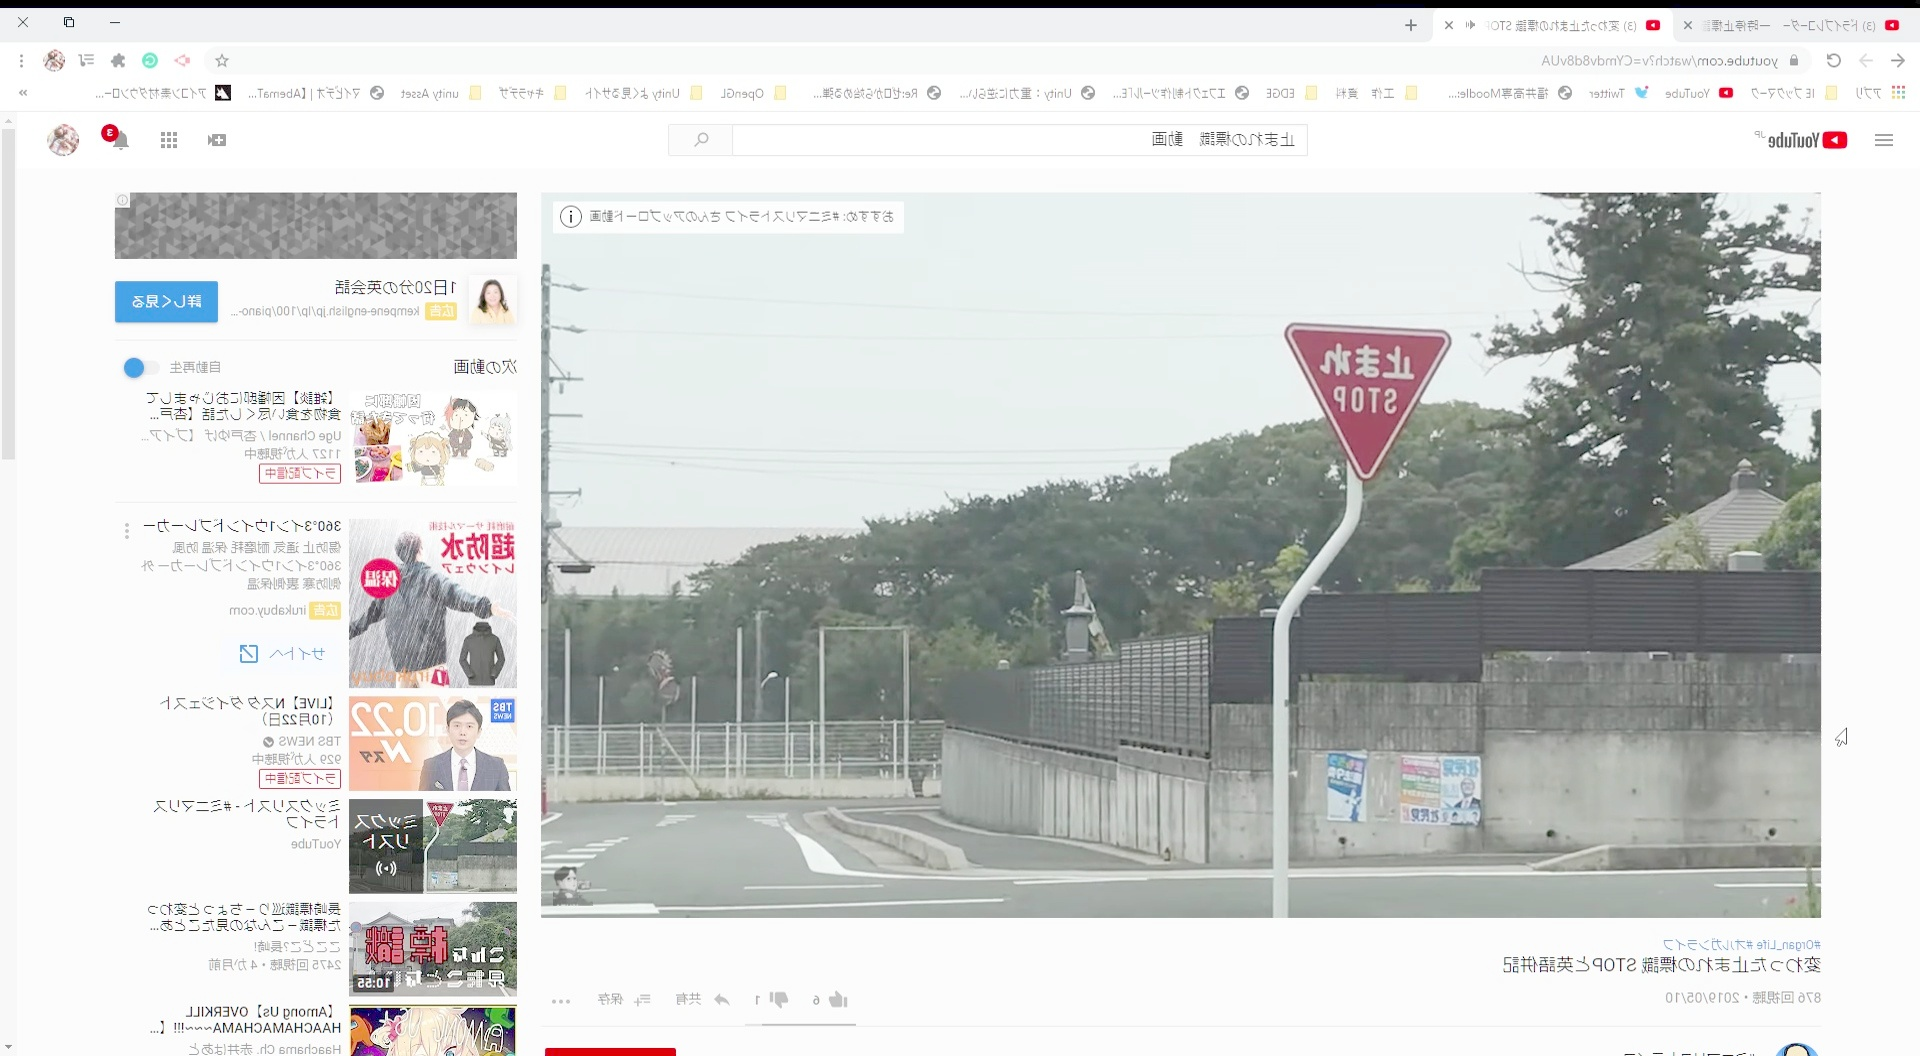Regulatory_sign_triangle: (1277, 302, 1472, 512)
